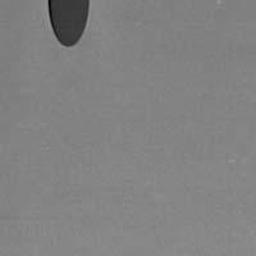Punching: (46, 0, 91, 49)
